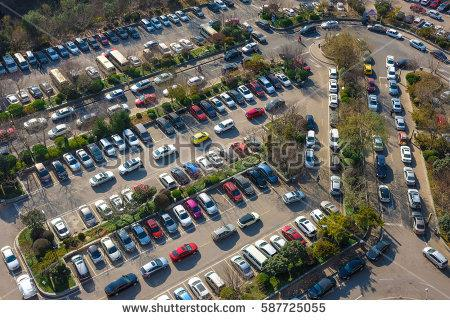car: (164, 241, 206, 263), (134, 257, 174, 275), (44, 214, 72, 238), (207, 224, 241, 243), (255, 160, 280, 185), (167, 167, 193, 189), (89, 199, 113, 222), (115, 157, 145, 174), (48, 161, 71, 183), (105, 193, 128, 215), (117, 187, 141, 208), (74, 206, 99, 226), (60, 154, 83, 175), (234, 213, 264, 229), (33, 163, 53, 186), (87, 170, 115, 186), (300, 126, 320, 148), (299, 145, 317, 169), (195, 99, 216, 119), (214, 89, 234, 110), (74, 150, 96, 169), (152, 117, 174, 136), (133, 123, 153, 143), (281, 189, 307, 204), (164, 112, 184, 131), (119, 130, 140, 148), (210, 119, 239, 132), (202, 152, 227, 167), (84, 146, 107, 162), (186, 105, 209, 121), (147, 146, 180, 157), (97, 136, 115, 156), (325, 90, 343, 110), (108, 134, 129, 151), (155, 173, 177, 189), (263, 98, 288, 112), (303, 109, 320, 129), (241, 107, 266, 120), (207, 96, 226, 113), (188, 131, 211, 145), (217, 62, 240, 75), (129, 80, 153, 92), (324, 60, 339, 79), (103, 88, 126, 100), (325, 77, 342, 93), (221, 50, 243, 61), (152, 74, 175, 84), (183, 79, 208, 87)
